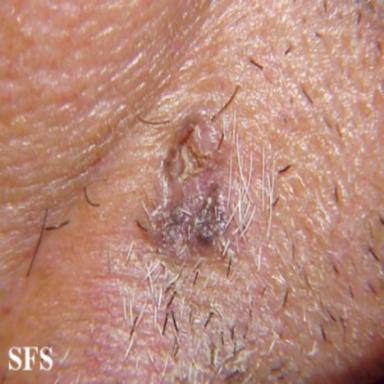basal-cell-carcinoma: (148, 112, 231, 254)
